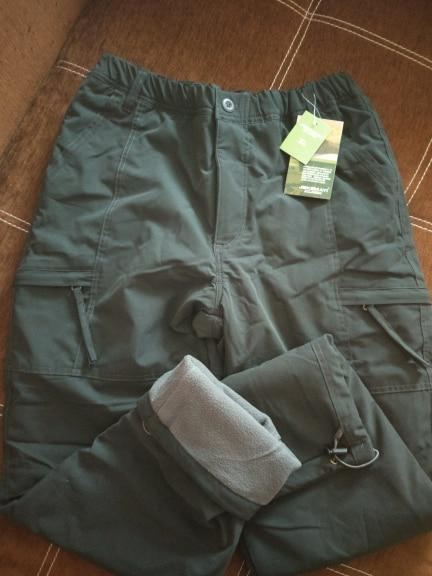pants: (41, 62, 427, 576)
